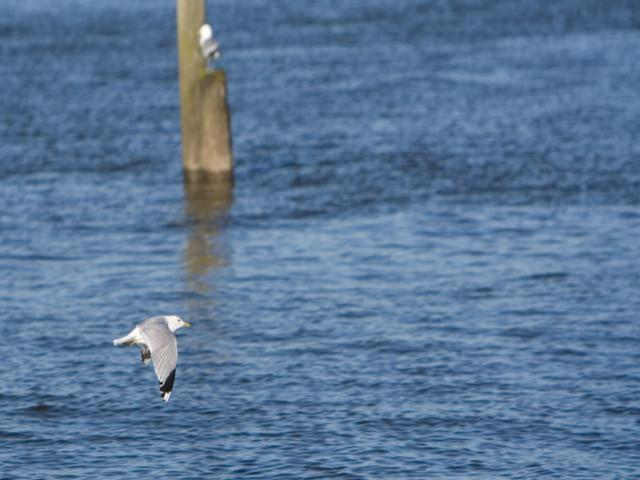Bird: (115, 316, 190, 400), (196, 21, 219, 68), (196, 23, 218, 66)
